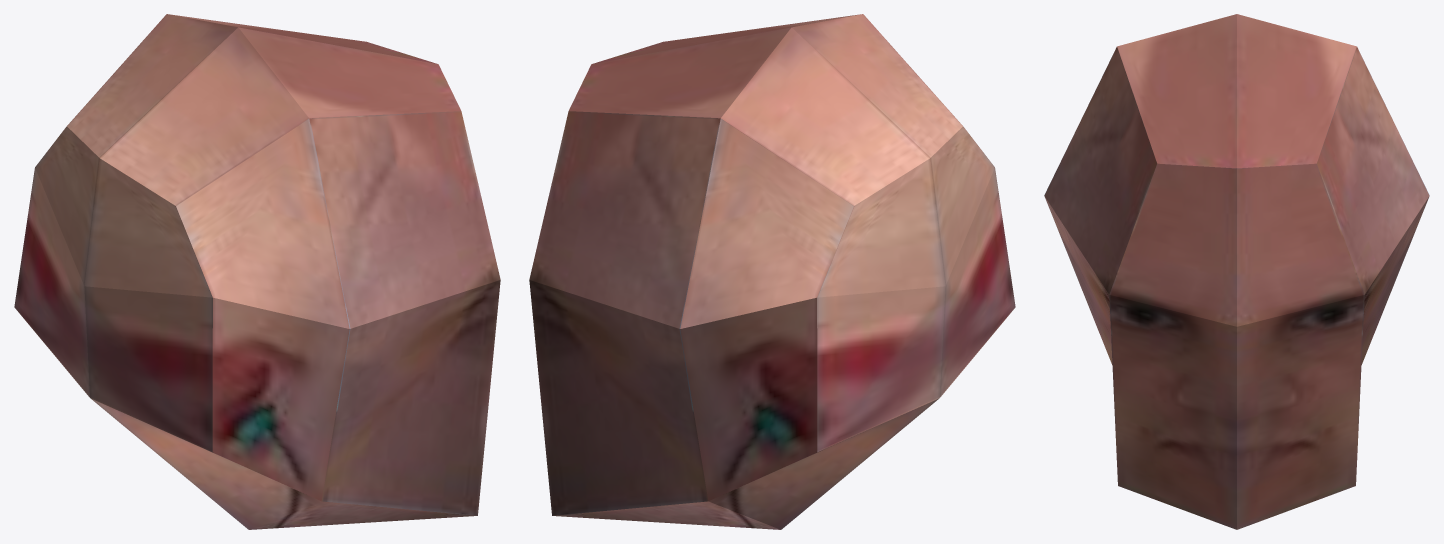
Rendered from head.glb.
3 views of the same model, side by side, from view 1: azimuth 30°, elevation 25°; view 2: azimuth 150°, elevation 25°; view 3: azimuth 270°, elevation 25° (orthographic). The views are drawn at different scales.
Visible parts, largest first — view 1: Cube; view 2: Cube; view 3: Cube.
Part boxes in pixels (x1=…): Cube: x1=14, y1=14, x2=500, y2=529; Cube: x1=529, y1=14, x2=1015, y2=529; Cube: x1=1044, y1=14, x2=1429, y2=529.
Size of the model in its own units: 0.4248 by 0.5444 by 0.4332.
Materials: 1 (1 with a texture image).
